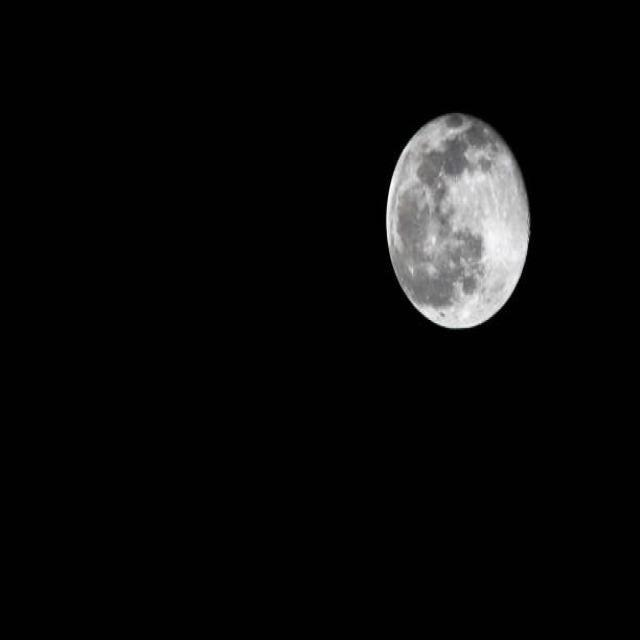moon: (386, 107, 534, 326)
